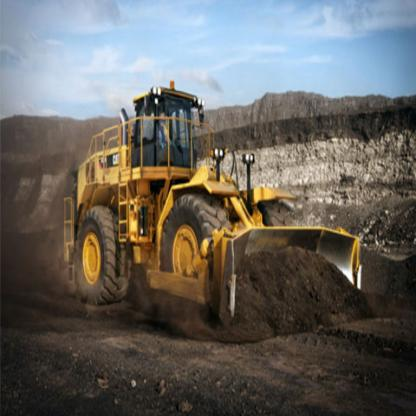bull_dozer/loader/grader: (50, 66, 370, 348)
